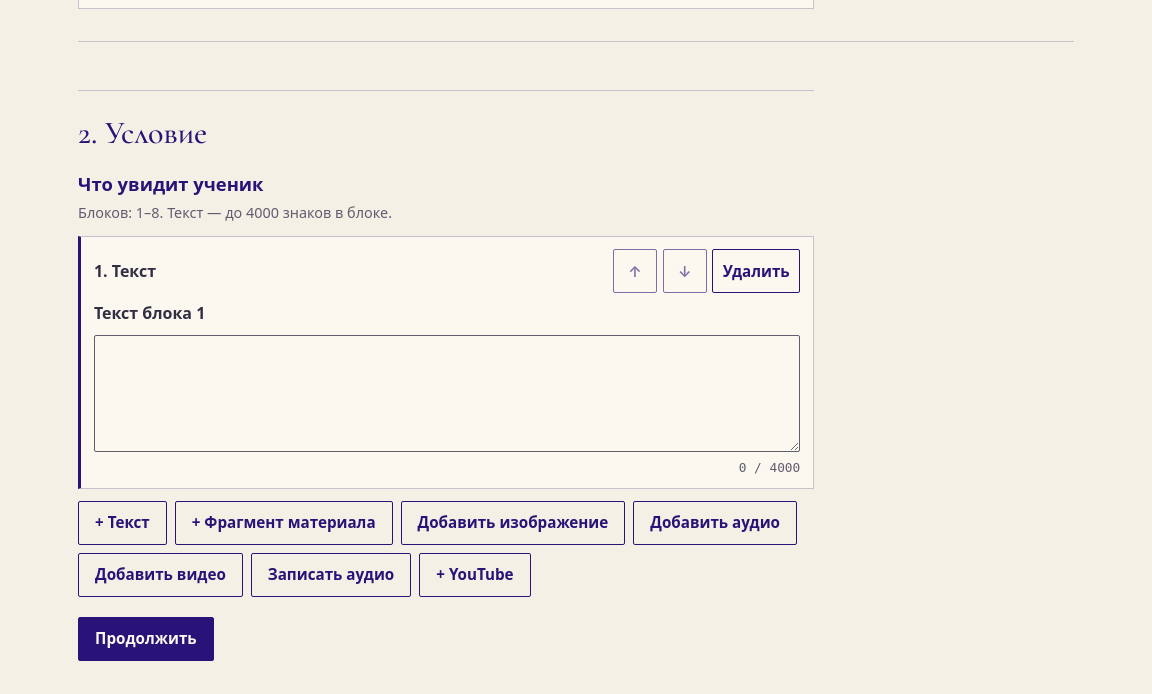
ExerciseAuthoringPageComponent › preview modes › shows the neutral placeholders for every unfinished part
This screenshot has width=1152, height=694.
(page scrolled)
Type "Что такое ДНК?" into the text box with id "self-check-prompt-text-0" at (447, 394), box x1=94 y1=335 x2=800 y2=452
(page scrolled)
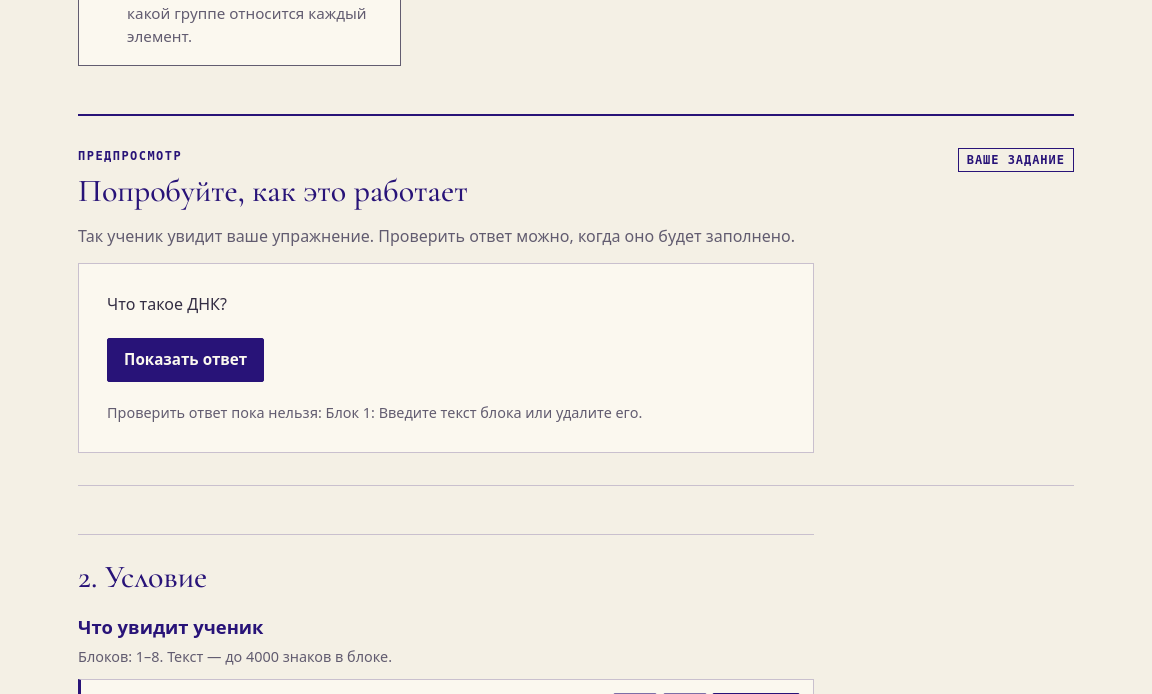
Now the element that starts with "Предпросмотр" shows "Что такое ДНК?", box x1=107 y1=293 x2=227 y2=315
Click the button "Показать ответ" at (186, 360), box x1=107 y1=338 x2=264 y2=382
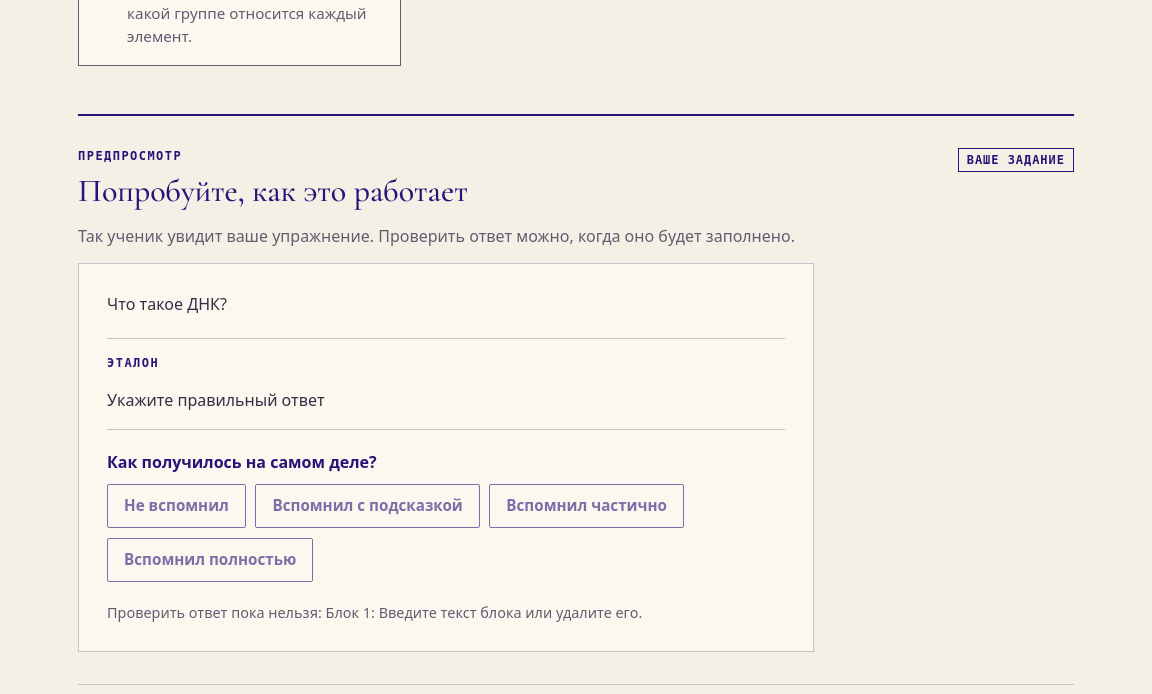
Now the element that starts with "Предпросмотр" shows "Укажите правильный ответ", box x1=107 y1=389 x2=325 y2=411
